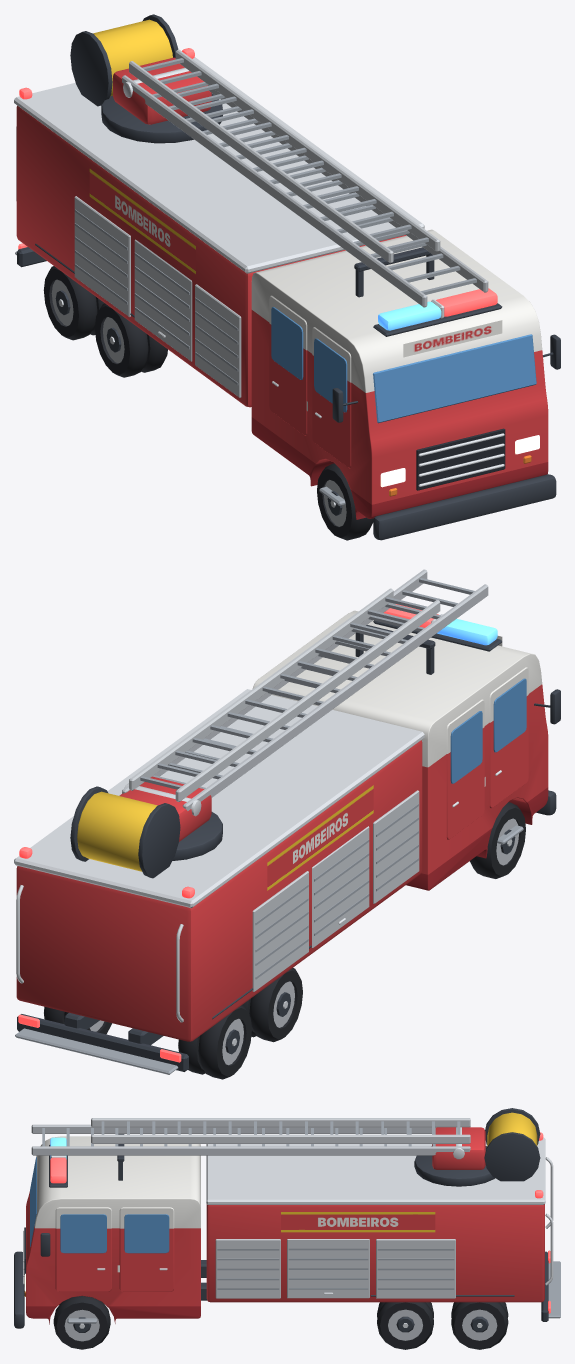
The model's file is caminhao_bombeiros.glb.
3 renders of one model, top to bottom at view 1: azimuth 30°, elevation 25°; view 2: azimuth 150°, elevation 25°; view 3: azimuth 270°, elevation 25°, orthographic. The views are drawn at different scales.
Visible parts, largest first — view 1: caminhao_bombeiros, escada, portinhola_1, porta_2, porta_1, roda_3, roda_5, roda_1, sirene_azul_1, sirene_vermelha_1; view 2: caminhao_bombeiros, escada, portinhola_1, porta_1, porta_2, roda_5, roda_3, roda_1, sirene_azul_1; view 3: caminhao_bombeiros, escada, portinhola_2, porta_3, porta_4, roda_6, roda_4, roda_2, sirene_vermelha_1.
Part boxes in pixels (left/top/right/bottom): caminhao_bombeiros: left=14, top=14, right=560, bottom=540; escada: left=122, top=49, right=488, bottom=307; portinhola_1: left=134, top=239, right=192, bottom=361; porta_2: left=269, top=295, right=307, bottom=435; porta_1: left=312, top=327, right=351, bottom=468; roda_3: left=95, top=303, right=167, bottom=377; roda_5: left=43, top=266, right=104, bottom=340; roda_1: left=317, top=463, right=373, bottom=540; sirene_azul_1: left=378, top=301, right=441, bottom=330; sirene_vermelha_1: left=436, top=288, right=497, bottom=316; caminhao_bombeiros: left=14, top=610, right=560, bottom=1074; escada: left=122, top=569, right=488, bottom=816; portinhola_1: left=312, top=826, right=369, bottom=948; porta_1: left=489, top=667, right=528, bottom=808; porta_2: left=446, top=699, right=484, bottom=839; roda_5: left=178, top=1005, right=251, bottom=1079; roda_3: left=242, top=968, right=302, bottom=1042; roda_1: left=470, top=802, right=525, bottom=878; sirene_azul_1: left=437, top=618, right=497, bottom=645; caminhao_bombeiros: left=14, top=1108, right=560, bottom=1328; escada: left=31, top=1118, right=470, bottom=1159; portinhola_2: left=287, top=1239, right=369, bottom=1298; porta_3: left=55, top=1207, right=111, bottom=1291; porta_4: left=119, top=1207, right=174, bottom=1291; roda_6: left=451, top=1302, right=508, bottom=1349; roda_4: left=377, top=1302, right=433, bottom=1349; roda_2: left=53, top=1296, right=110, bottom=1349; sirene_vermelha_1: left=50, top=1157, right=66, bottom=1183.
Bounding box in the file's own units: 3.16 × 3.72 × 9.22.
7 materials, 3 textured.
